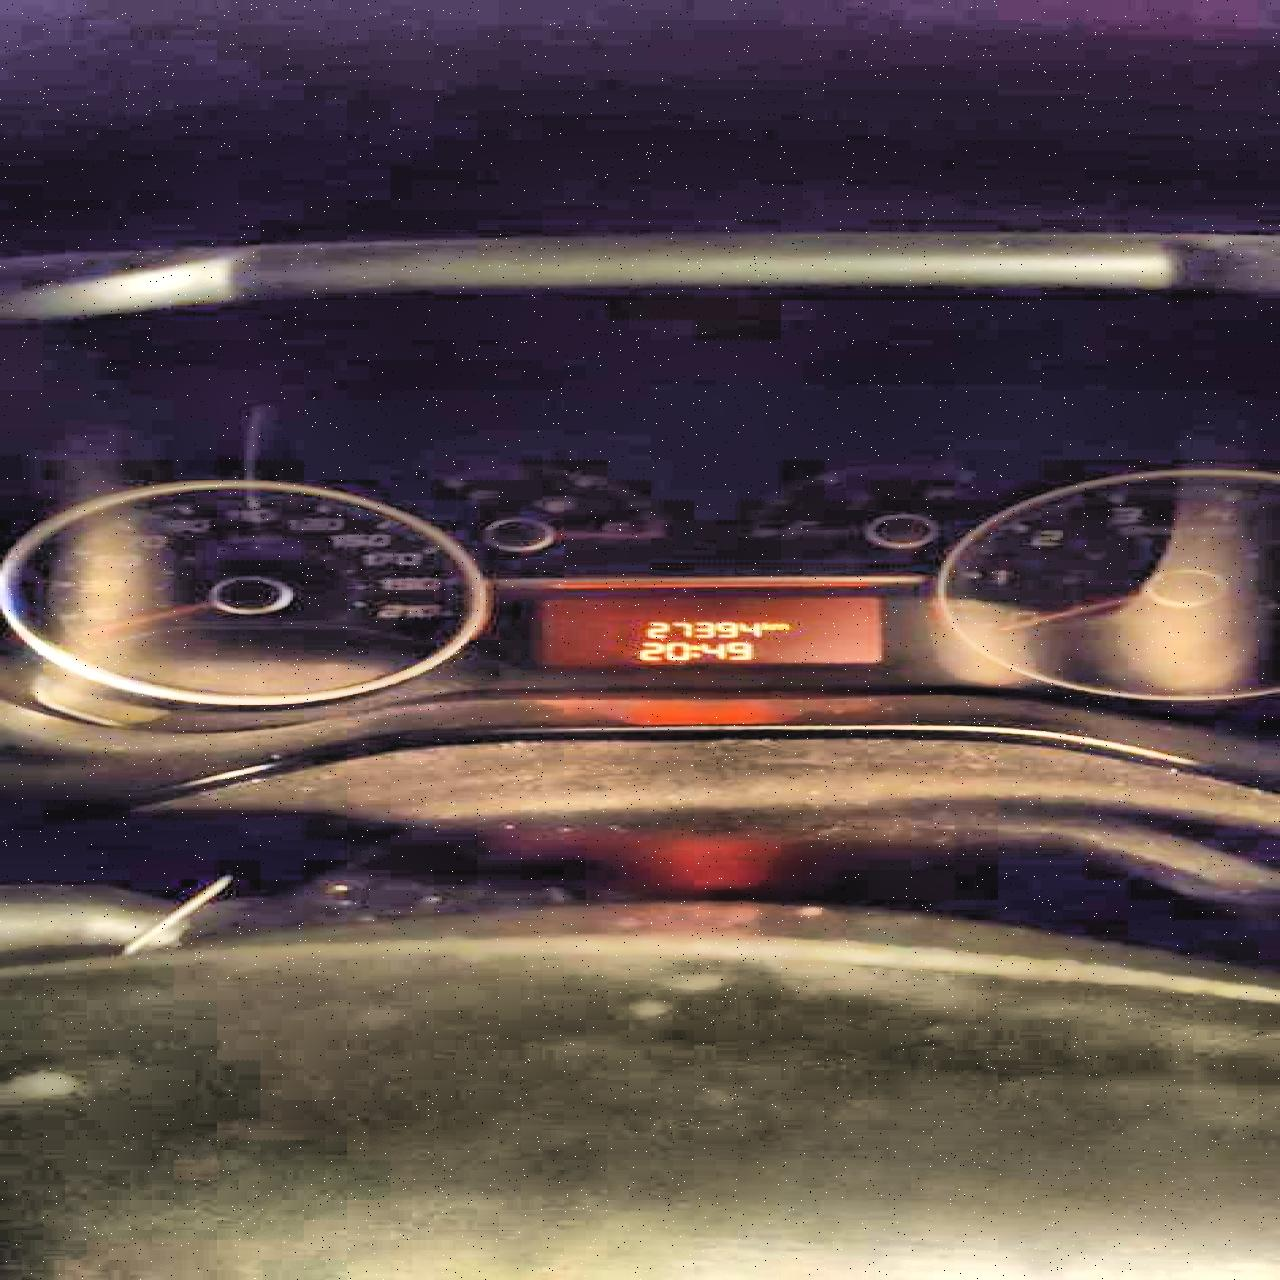0: (662, 640, 689, 660)
2: (634, 640, 661, 660), (642, 620, 667, 638)
3: (692, 620, 713, 638)
4: (696, 640, 721, 659), (737, 621, 760, 636)
7: (667, 621, 692, 636)
9: (724, 640, 751, 660), (713, 620, 737, 638)
X: (760, 620, 772, 629), (689, 644, 697, 658), (772, 622, 789, 629)
odometer: (531, 592, 890, 667)
